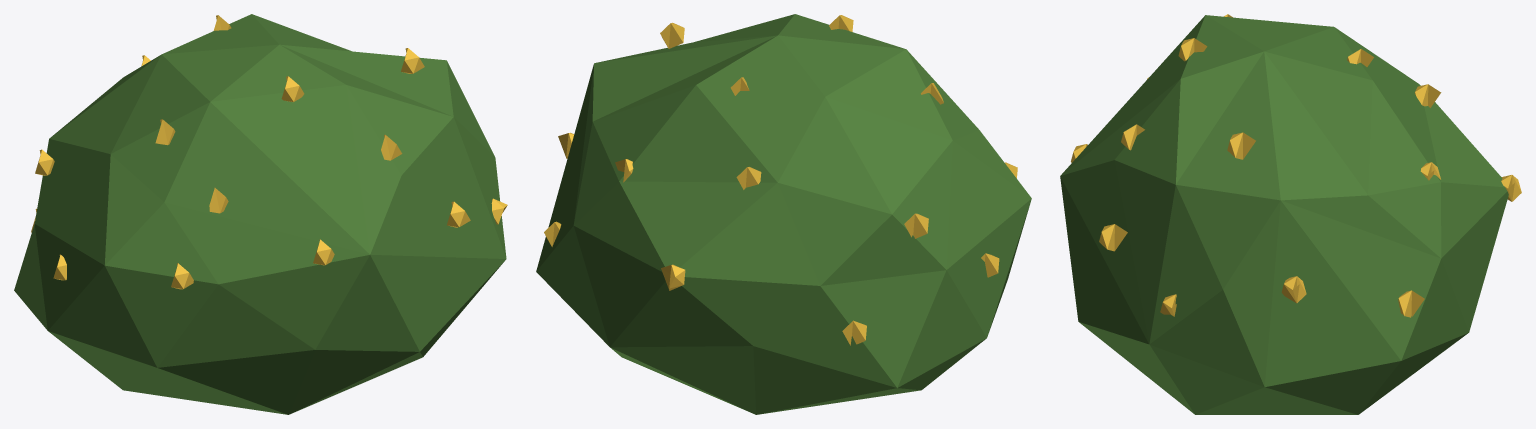
The model's file is bush_01.glb.
3 renders of one model, left to right at view 1: azimuth 30°, elevation 25°; view 2: azimuth 150°, elevation 25°; view 3: azimuth 270°, elevation 25°, orthographic.
Visible parts, largest first — view 1: Object_69, Object_70; view 2: Object_69, Object_70; view 3: Object_69, Object_70.
Boxes of the visible parts, x1=… form: Object_69: x1=14, y1=14, x2=506, y2=414; Object_70: x1=31, y1=15, x2=507, y2=289; Object_69: x1=536, y1=14, x2=1031, y2=414; Object_70: x1=544, y1=15, x2=1017, y2=345; Object_69: x1=1060, y1=15, x2=1508, y2=414; Object_70: x1=1071, y1=14, x2=1521, y2=317.
Size of the model in its own units: 2.55 by 1.76 by 2.36.
